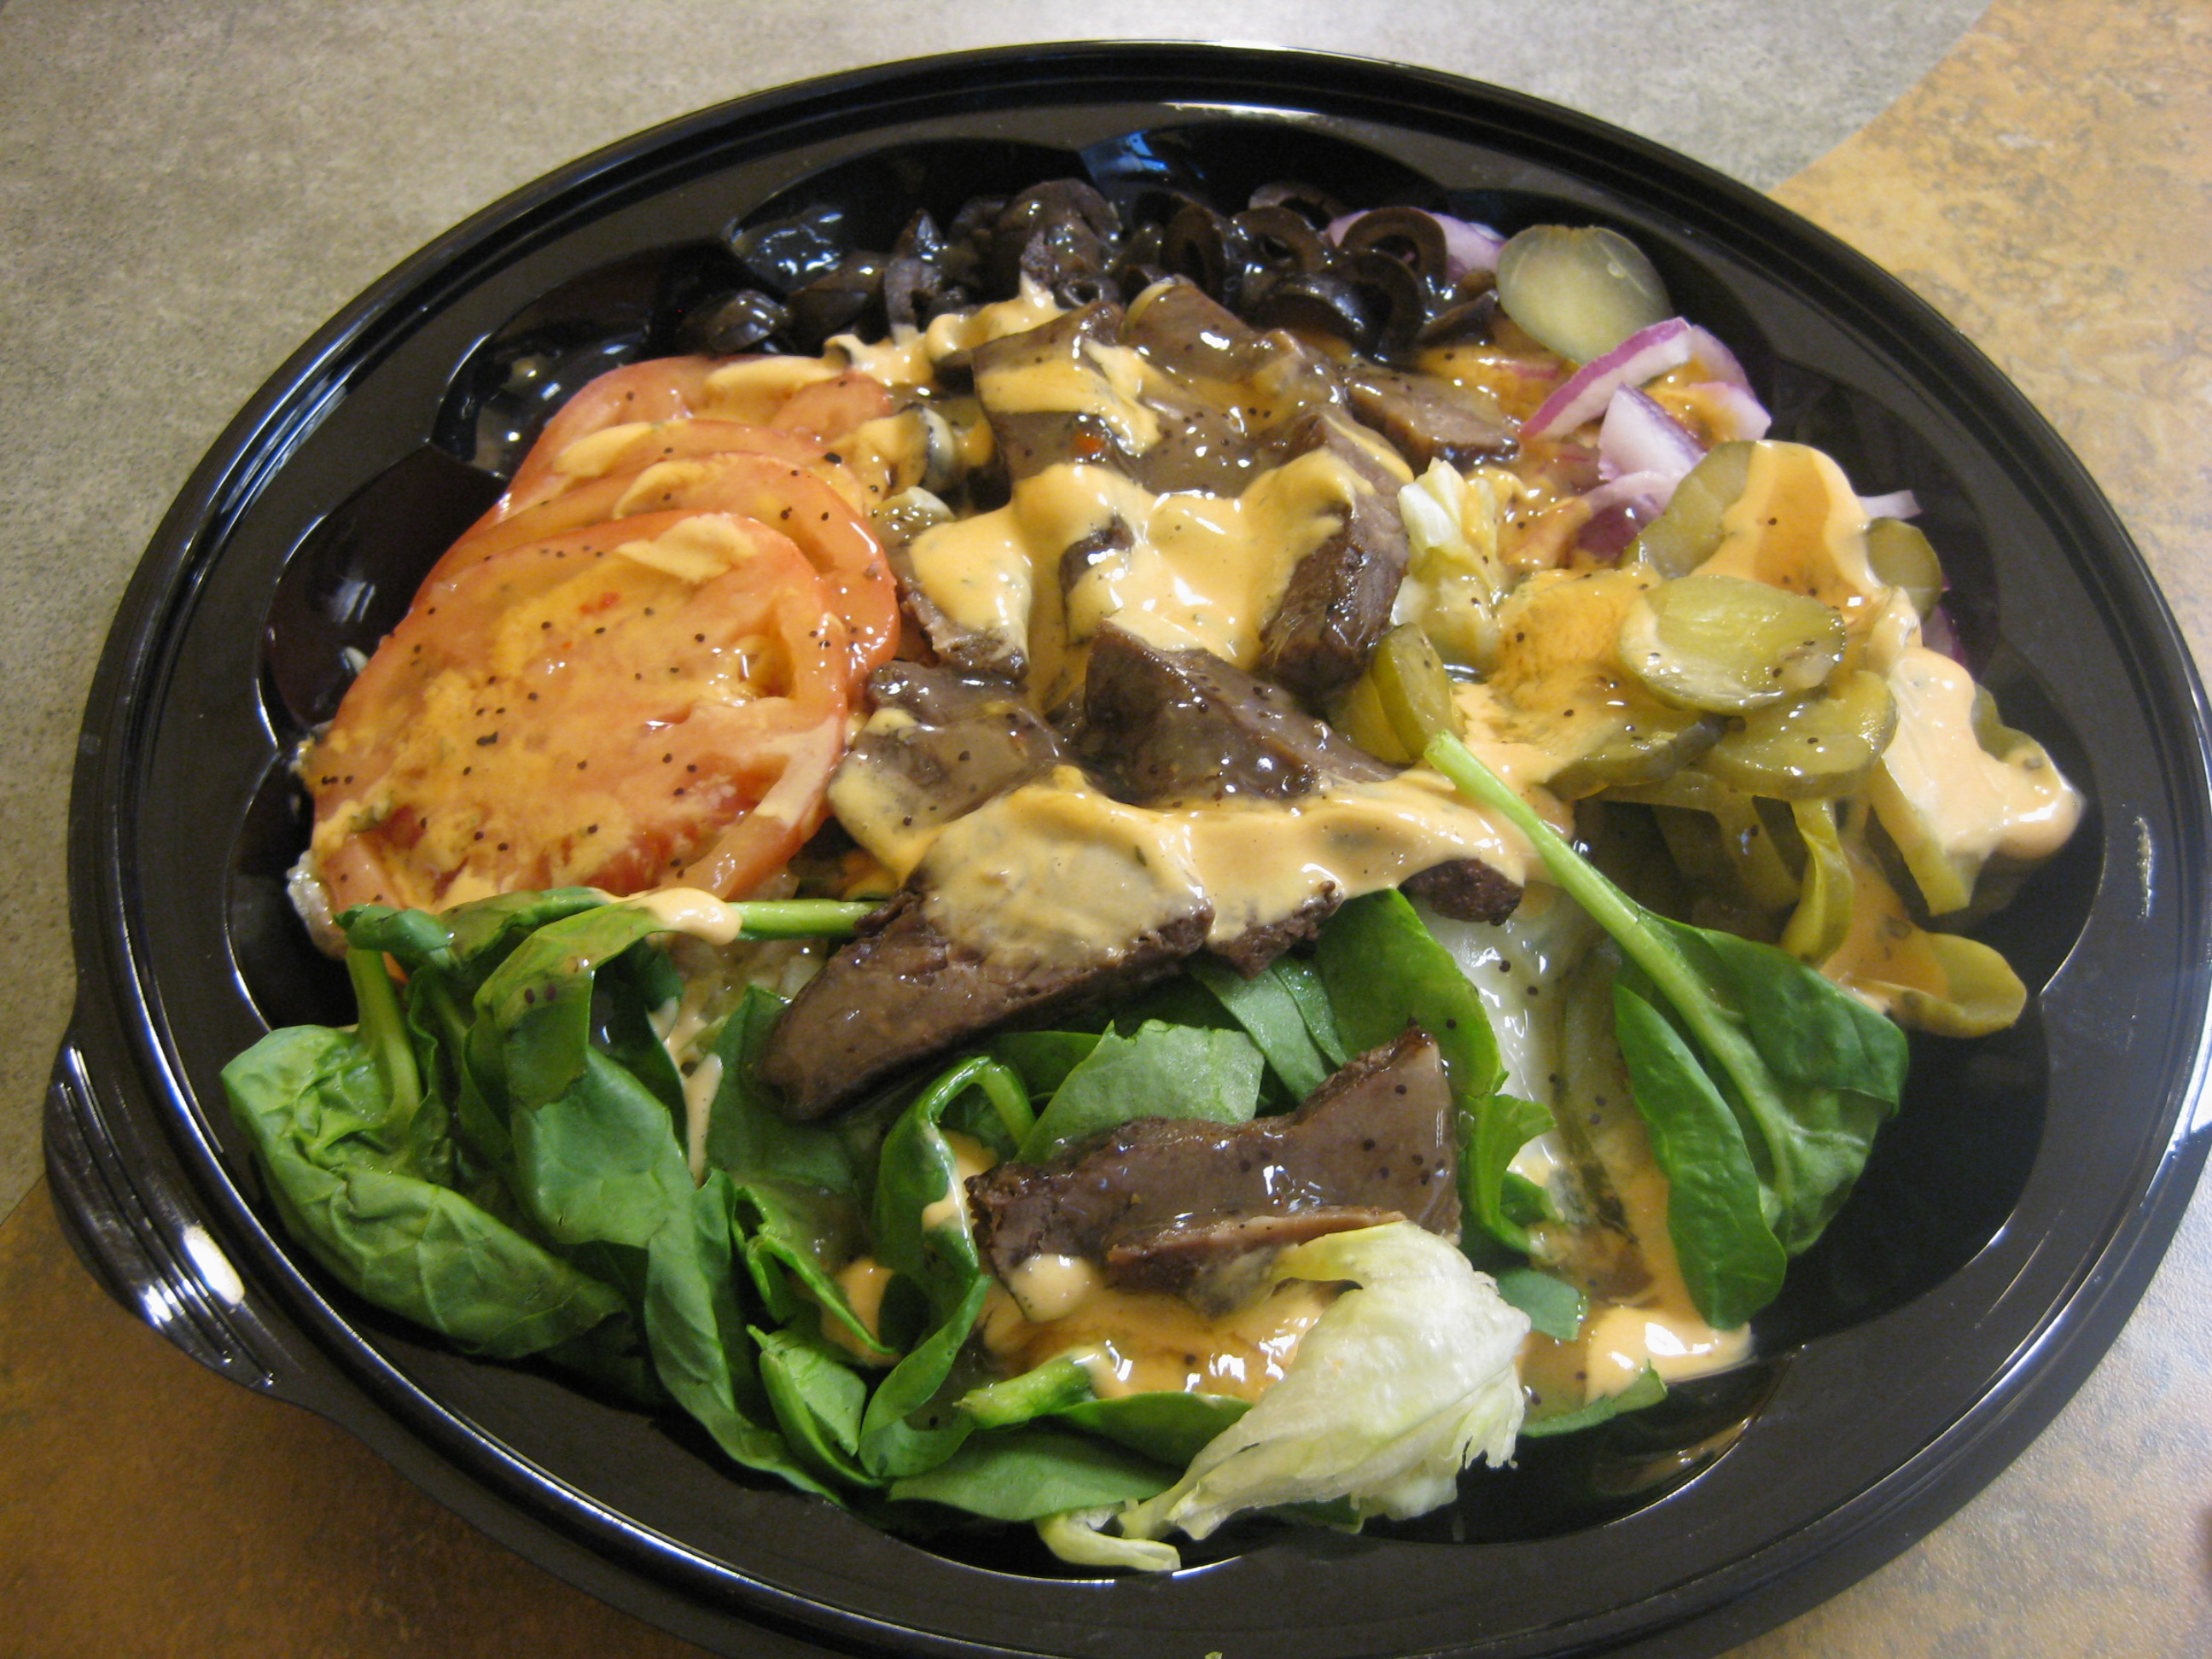salad: (253, 251, 2075, 1580)
